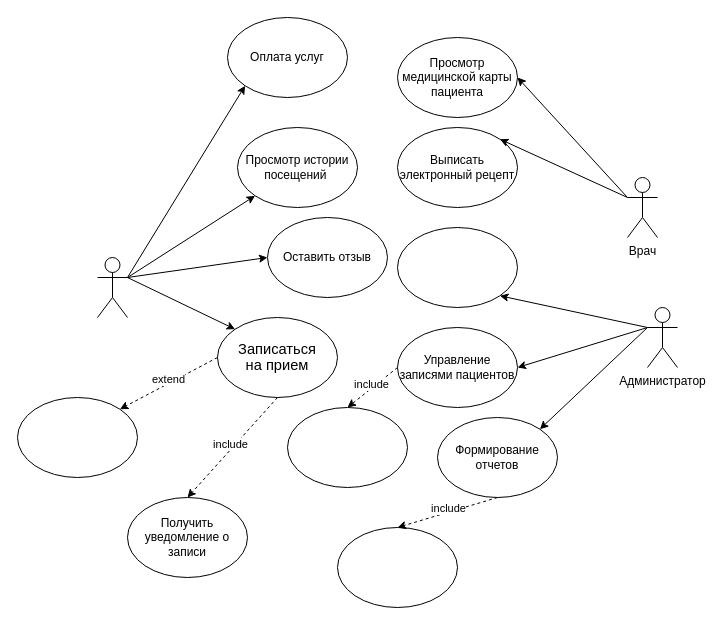
This 723x625 diagram has some shape labels left out. Here are the shapes that lost their labels. From the top down, the centre of each, then its label:
At [112,287]: "Пациент".
At [457,267]: "Управление расписанием врачей".
At [77,437]: "Отменить или перенести запись".
At [347,447]: "Фильтрация базы пациентов".
At [397,567]: "Отчет о прибыльности".
